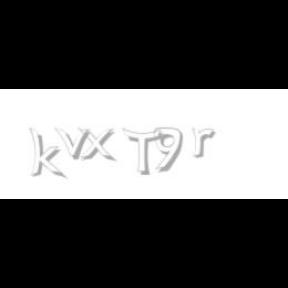9: (154, 128, 182, 172)
T: (122, 128, 162, 176)
k: (29, 128, 67, 180)
r: (192, 128, 218, 158)
v: (54, 128, 94, 160)
x: (78, 128, 120, 162)
